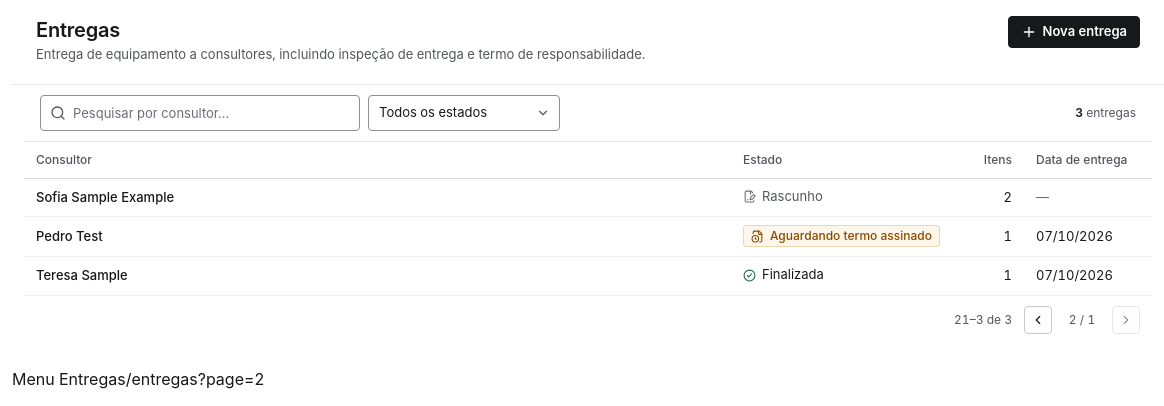
HandoversListPage › writes a status change to the URL and resets the page
Check: the table is shown, box [24, 142, 1152, 295]
Select "Entrega efetuada" in the dropdown named "Filtrar por estado". click: (464, 113)
box: [368, 95, 560, 131]
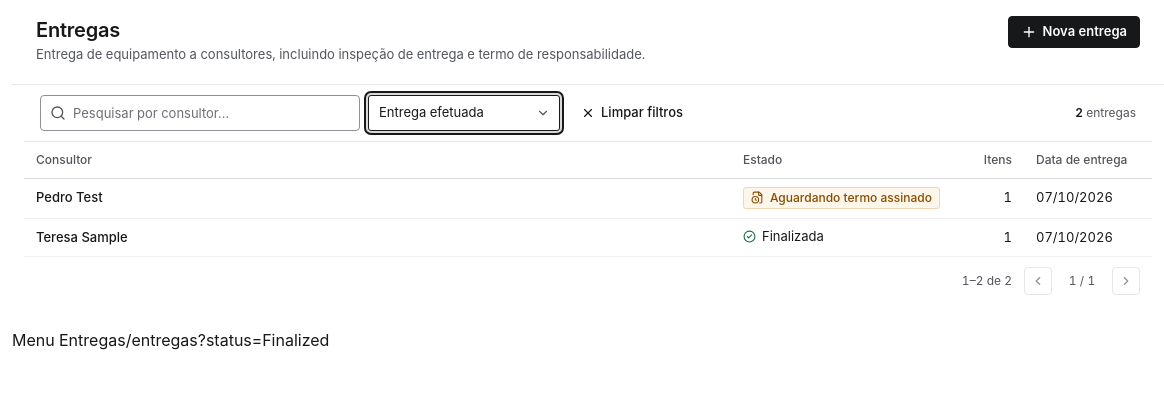
Check: the text with test id "location" reads "/entregas?status=Finalized", box [126, 330, 329, 350]
